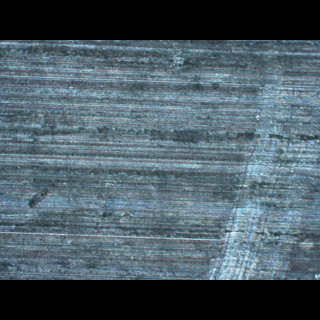d: (205, 67, 319, 278)
